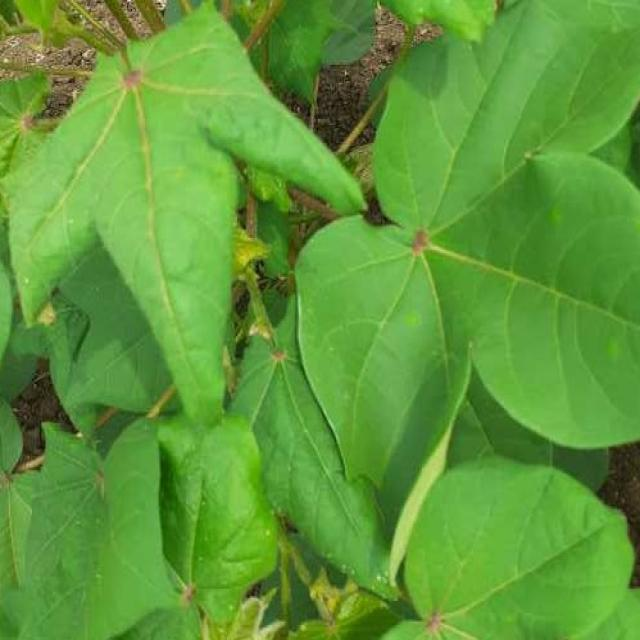Healthy Leaf: (34, 16, 640, 640)
